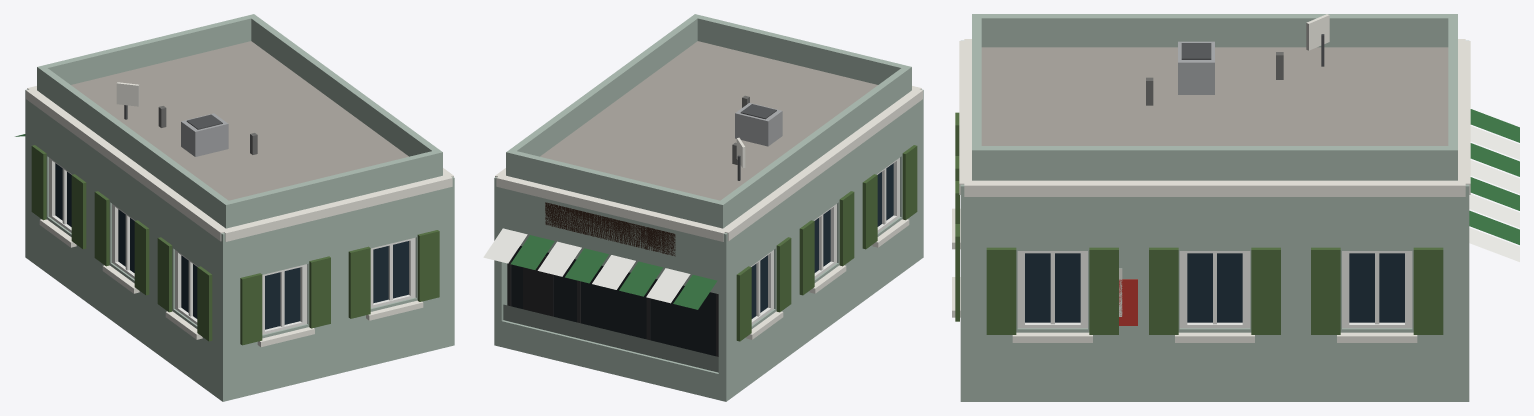
The picture shows the model from 3 angles, left to right: view 1: azimuth 30°, elevation 25°; view 2: azimuth 150°, elevation 25°; view 3: azimuth 270°, elevation 25°; orthographic projection. The views are drawn at different scales.
Parts seen in each view (by area): view 1: b9034_opaque, b9034_glass; view 2: b9034_opaque, b9034_glass; view 3: b9034_opaque, b9034_glass.
Part boxes in pixels (x1,y1,x2,y2): b9034_opaque: (15,14,454,401); b9034_glass: (55,163,408,329); b9034_opaque: (483,14,923,401); b9034_glass: (511,163,893,356); b9034_opaque: (952,14,1519,401); b9034_glass: (1025,253,1404,322).
Bounding box in the file's own units: 2931 × 2367 × 4598.
